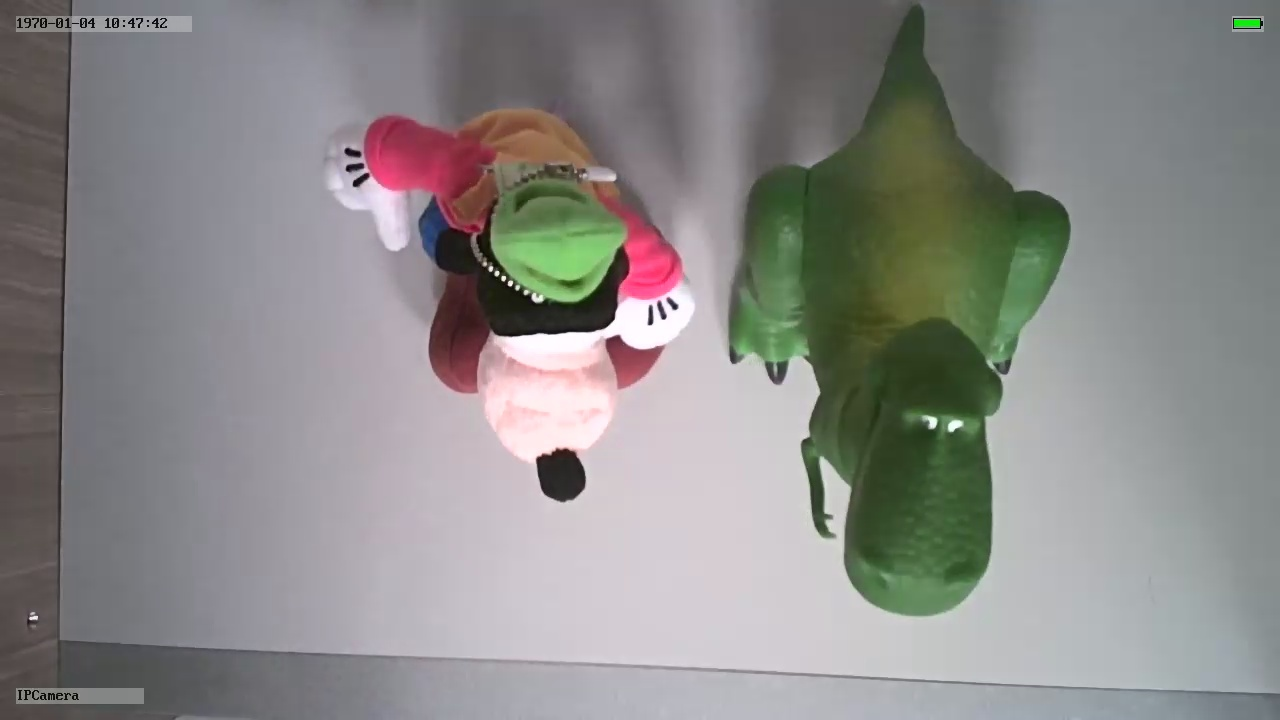goofy: (319, 100, 701, 504)
rex: (730, 92, 1074, 623)
